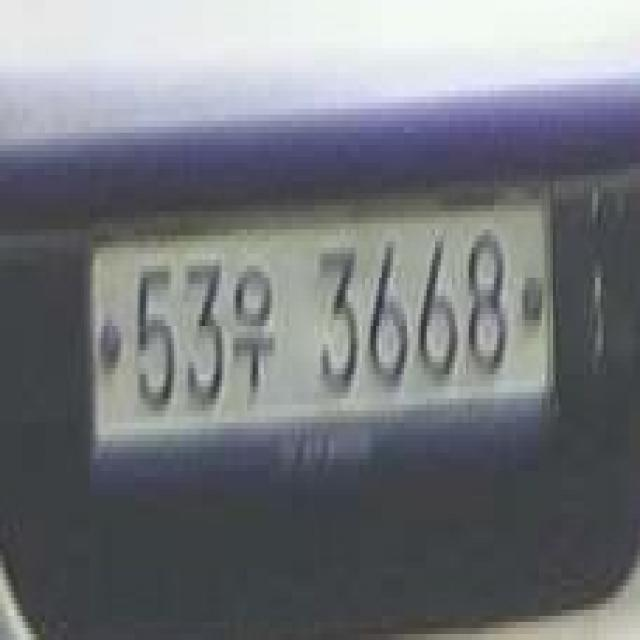3: (312, 218, 359, 416), (185, 253, 233, 422)
5: (121, 253, 185, 404)
6: (365, 218, 418, 416), (416, 218, 463, 416)
8: (463, 218, 508, 404)
license_plate: (76, 163, 564, 477)
u: (230, 260, 281, 404)
